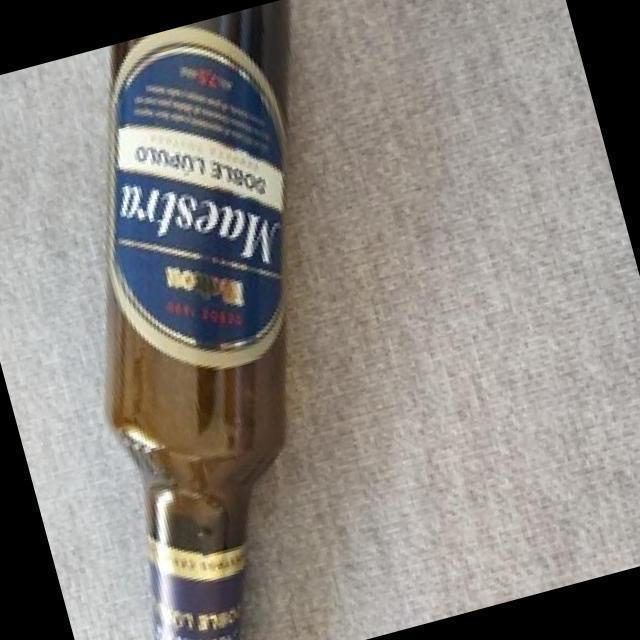BotolKaca: (101, 18, 291, 639)
